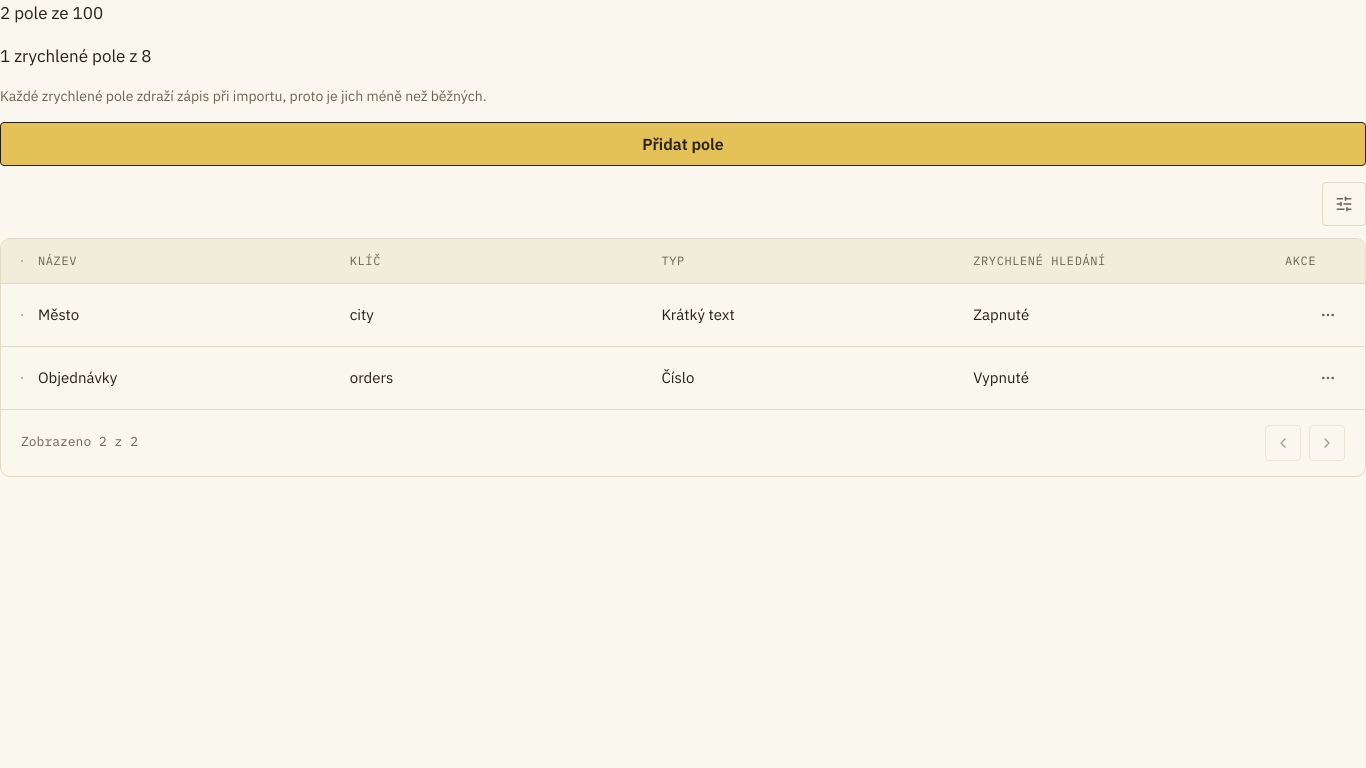
FieldsTable › u pole drženého naplánovanou kampaní smazání nenabídne a řekne proč
The image size is (1366, 768).
Click the button with test id "field-row-menu-city": (1328, 315) [1311,298,1345,332]
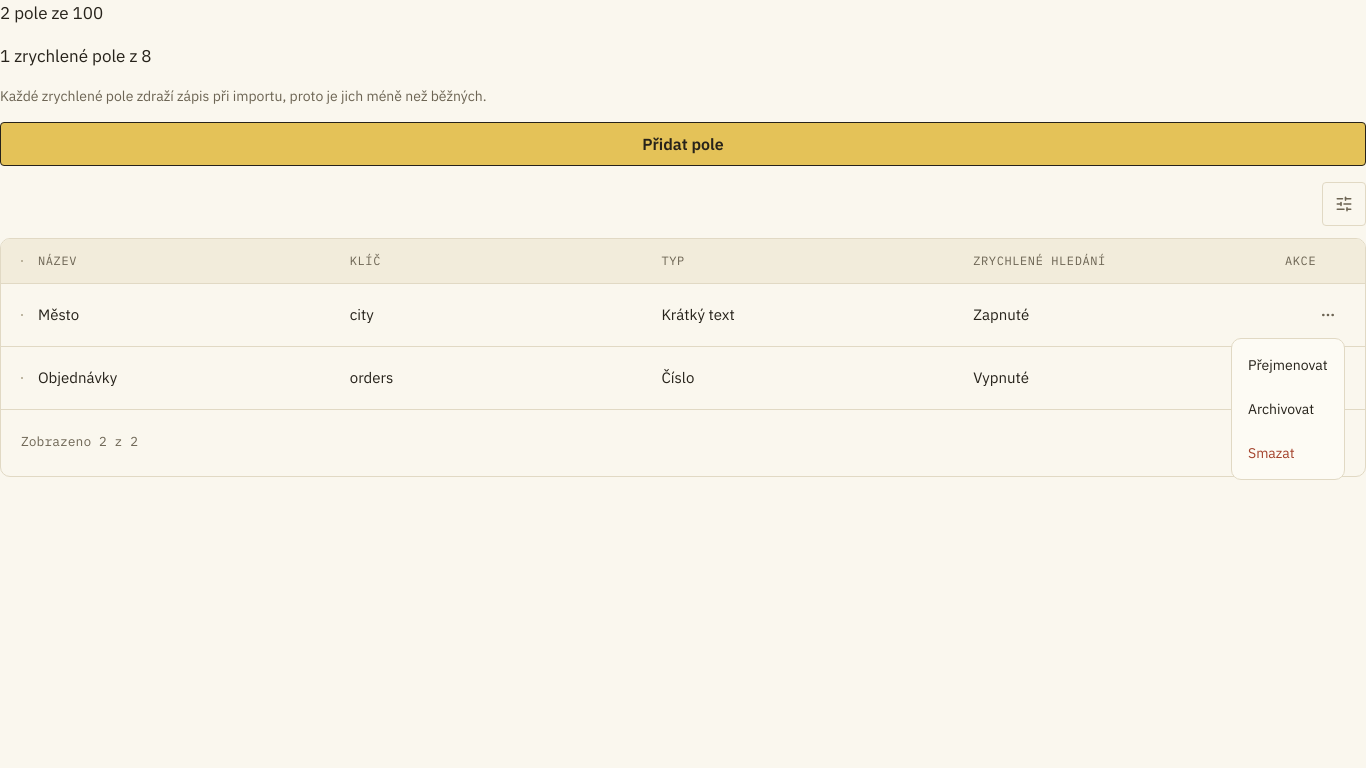
Click the menu item "Smazat": (1271, 453) [1248,444,1295,462]
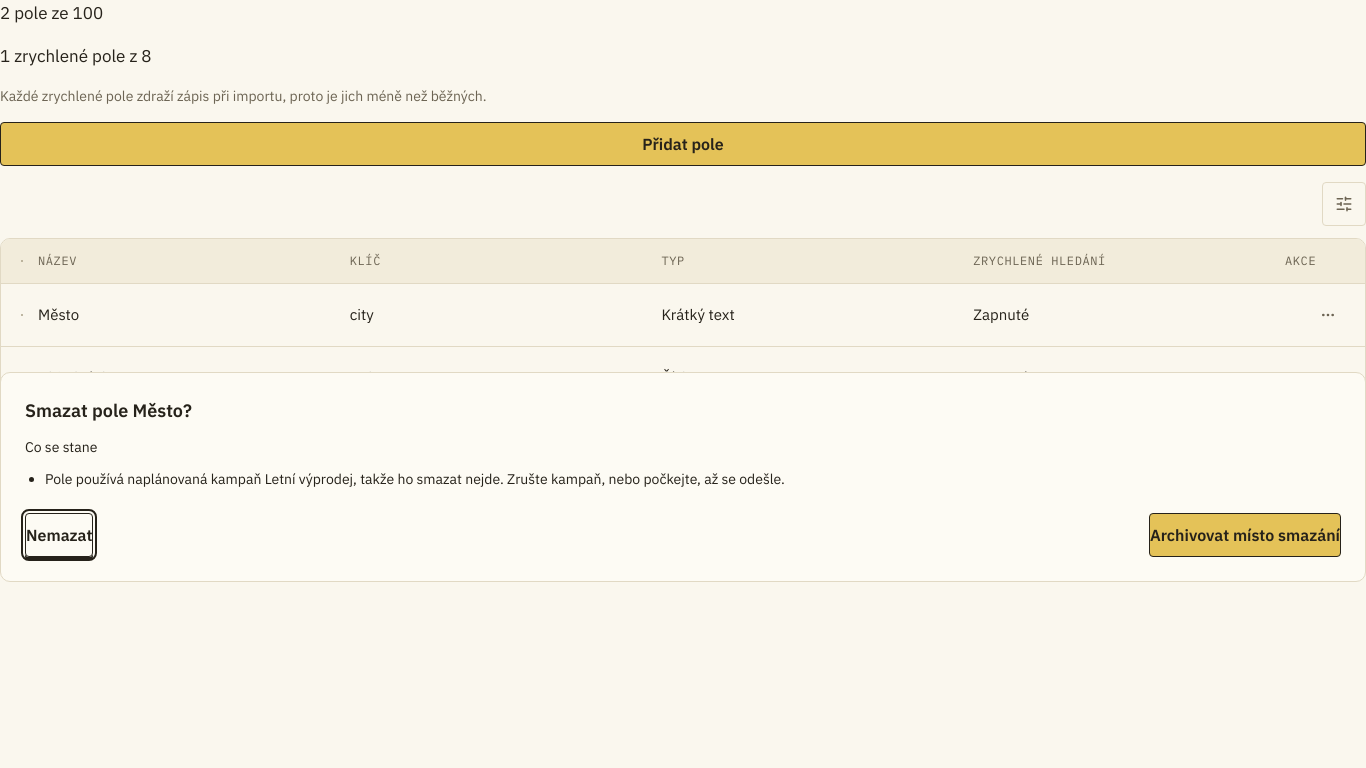
Result: the list item "Pole používá naplánovaná kampaň Letní výprodej" is shown at [45,470,785,488]
